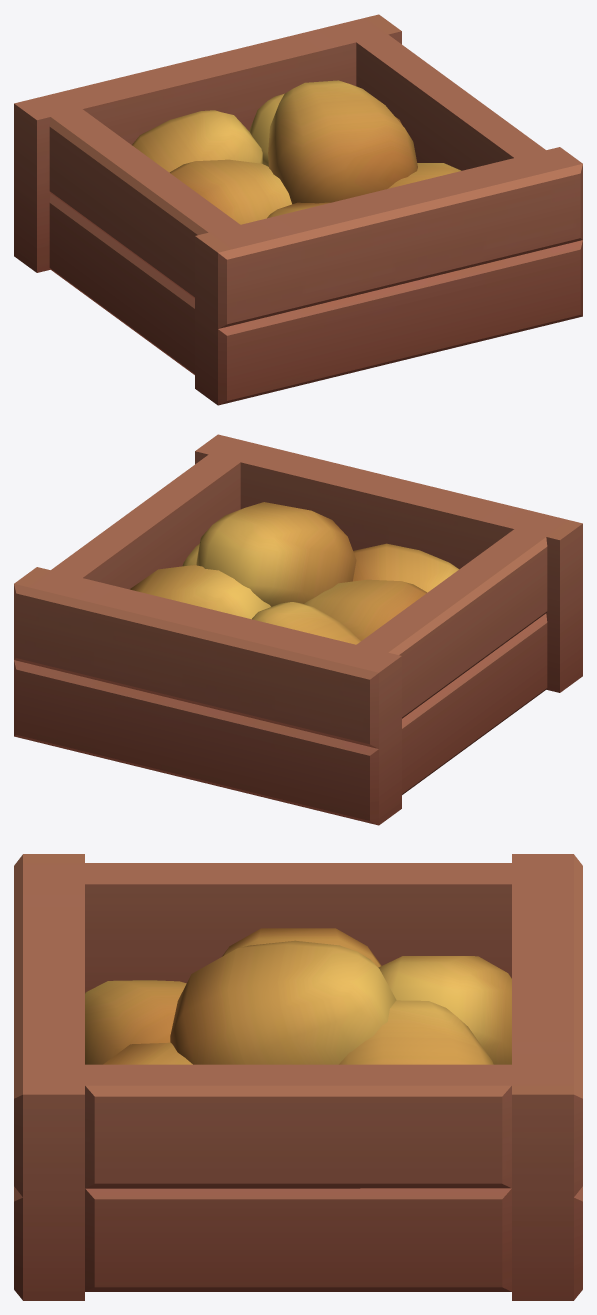
Rendered from market-crate-potatoes.glb.
3 renders of one model, top to bottom at view 1: azimuth 30°, elevation 25°; view 2: azimuth 150°, elevation 25°; view 3: azimuth 270°, elevation 25°, orthographic. The views are drawn at different scales.
Parts seen in each view (by area): view 1: crate_potatoes; view 2: crate_potatoes; view 3: crate_potatoes.
Part boxes in pixels (x1,y1,x2,y2): crate_potatoes: (14,14,582,405); crate_potatoes: (14,434,582,825); crate_potatoes: (14,854,582,1300).
Bounding box in the file's own units: 65534 × 31650 × 65534.
1 material, 1 textured.
